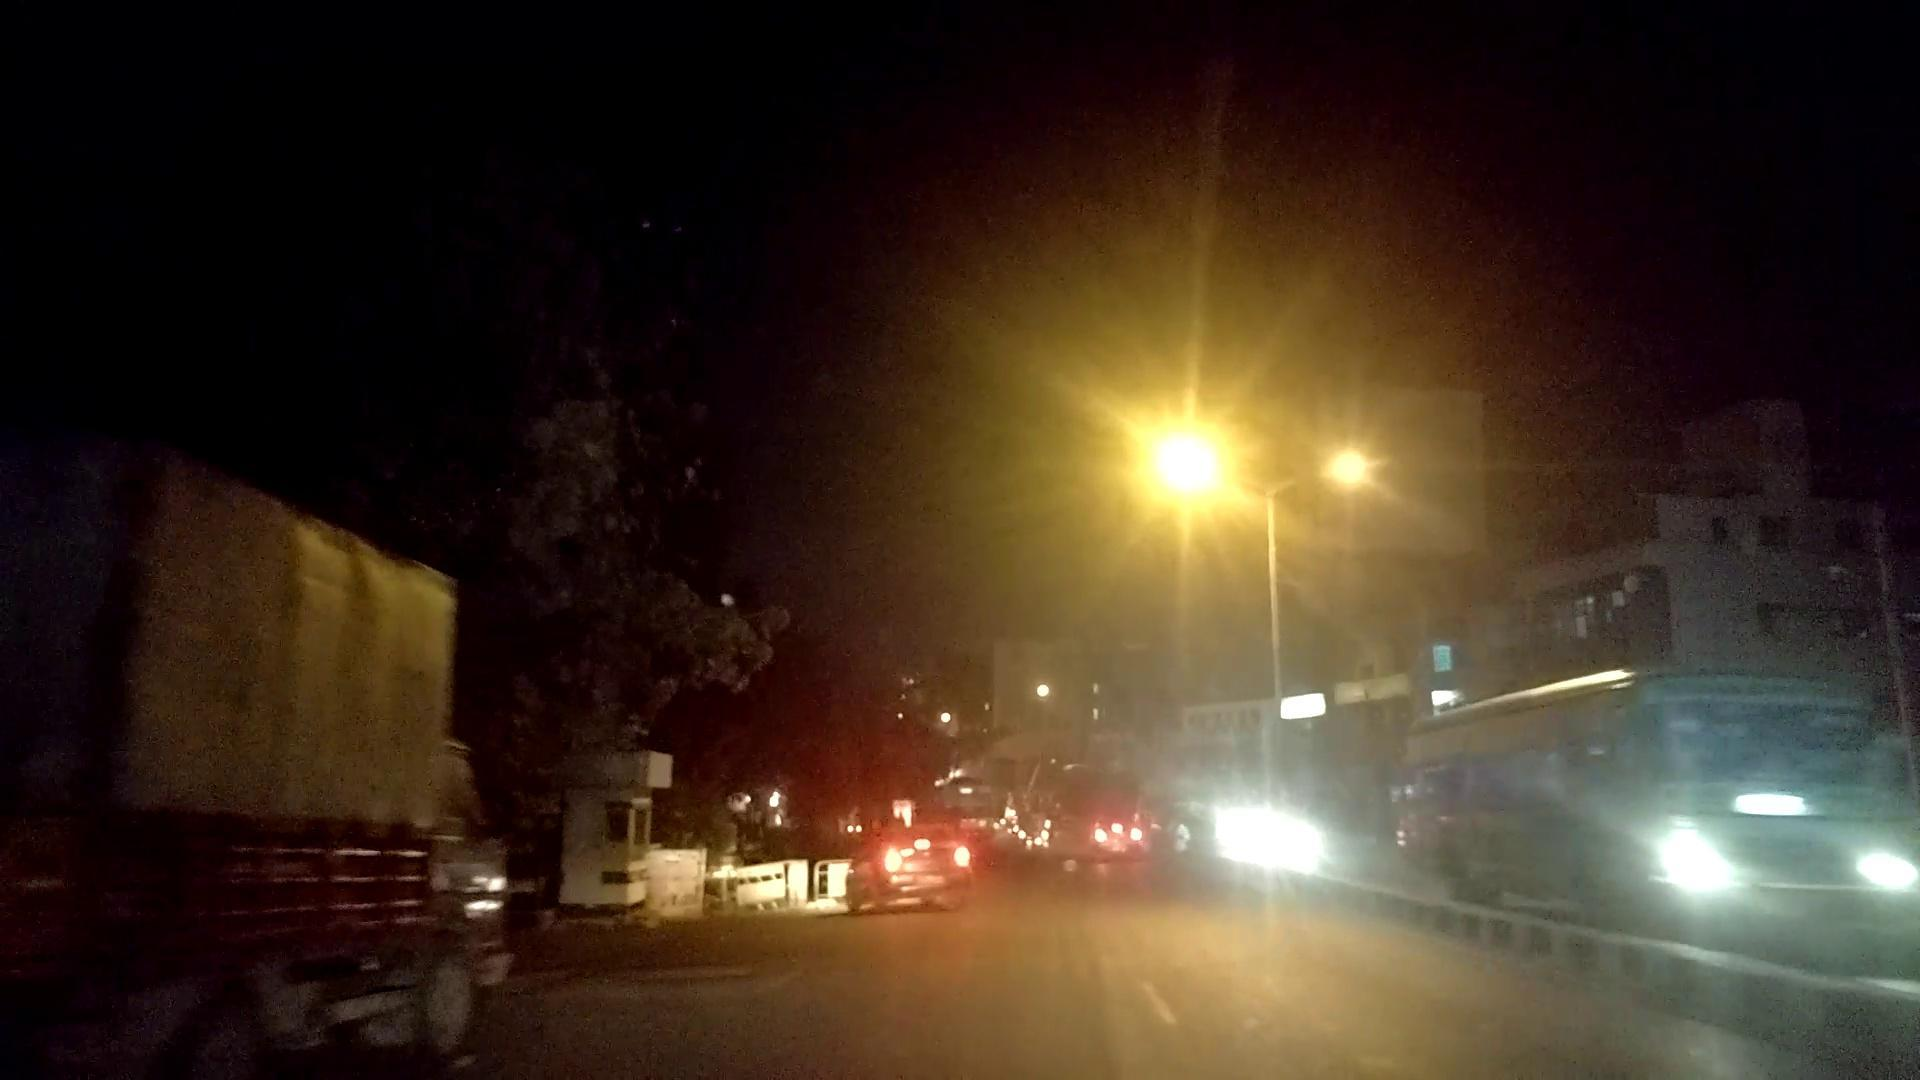on: (1019, 171, 1455, 707)
